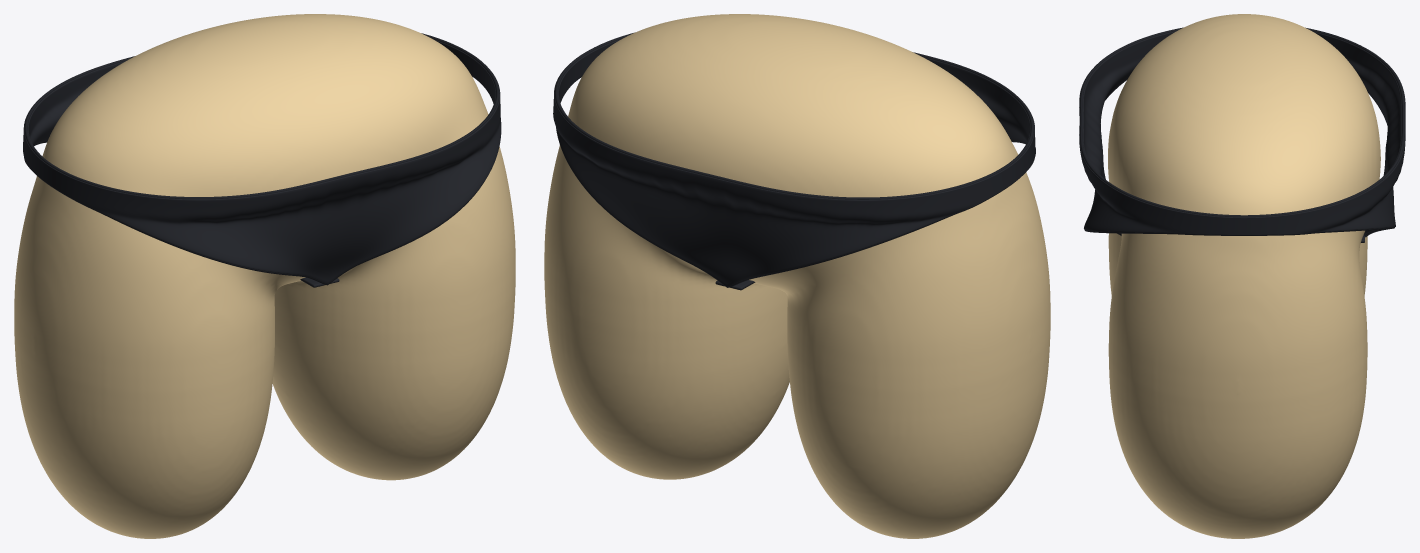
Rendered from Feminine-bottom-bikini.glb.
3 views of the same model, side by side, from view 1: azimuth 30°, elevation 25°; view 2: azimuth 150°, elevation 25°; view 3: azimuth 270°, elevation 25° (orthographic). The views are drawn at different scales.
Parts seen in each view (by area): view 1: Skin / bikini lower body, Bottom / bikini, Bottom / bikini waist edge export, Bottom / bikini leg edge export; view 2: Skin / bikini lower body, Bottom / bikini, Bottom / bikini waist edge export, Bottom / bikini leg edge export; view 3: Skin / bikini lower body, Bottom / bikini, Bottom / bikini waist edge export, Bottom / bikini leg edge export.
Boxes of the visible parts, x1=… form: Skin / bikini lower body: x1=14, y1=14, x2=515, y2=538; Bottom / bikini: x1=23, y1=39, x2=501, y2=284; Bottom / bikini waist edge export: x1=24, y1=33, x2=499, y2=199; Bottom / bikini leg edge export: x1=35, y1=76, x2=479, y2=285; Skin / bikini lower body: x1=544, y1=14, x2=1050, y2=538; Bottom / bikini: x1=553, y1=39, x2=1035, y2=286; Bottom / bikini waist edge export: x1=554, y1=32, x2=1034, y2=199; Bottom / bikini leg edge export: x1=575, y1=77, x2=1025, y2=287; Skin / bikini lower body: x1=1108, y1=14, x2=1380, y2=538; Bottom / bikini: x1=1079, y1=31, x2=1405, y2=235; Bottom / bikini waist edge export: x1=1080, y1=27, x2=1404, y2=217; Bottom / bikini leg edge export: x1=1084, y1=227, x2=1394, y2=237.
Size of the model in its own units: 0.6361 by 0.5993 by 0.4221.
